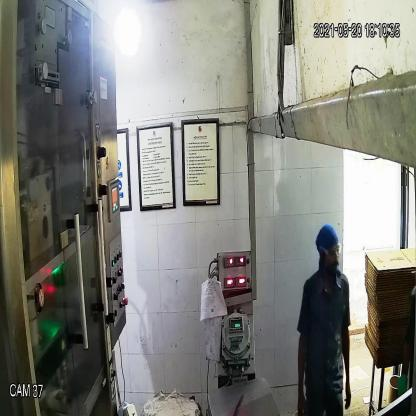goggles: (317, 241, 342, 259)
